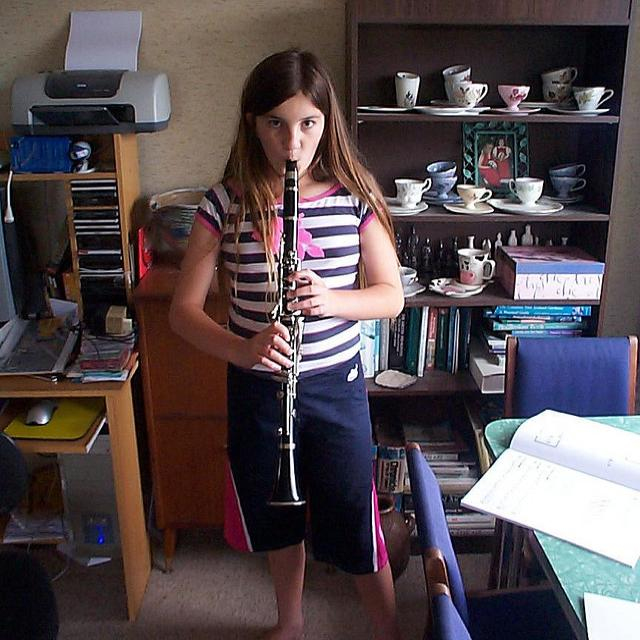clarinet: (260, 162, 312, 511)
